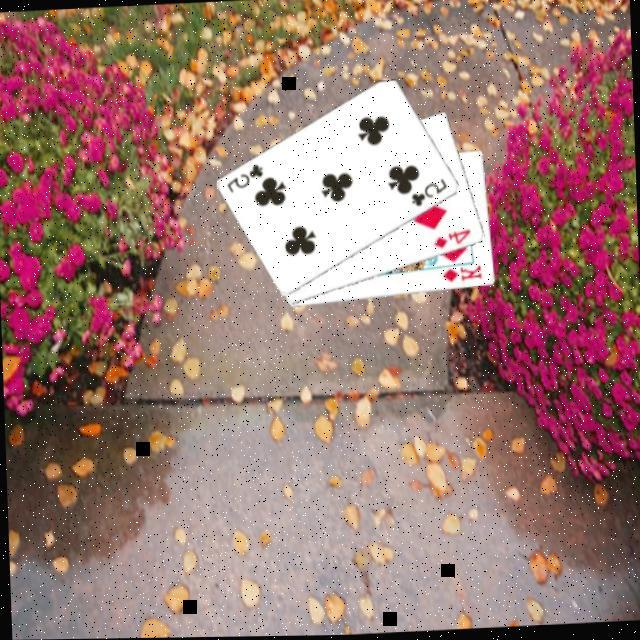4D: (430, 224, 474, 250)
5C: (224, 159, 267, 194), (408, 174, 451, 208)
KD: (439, 260, 485, 284)
